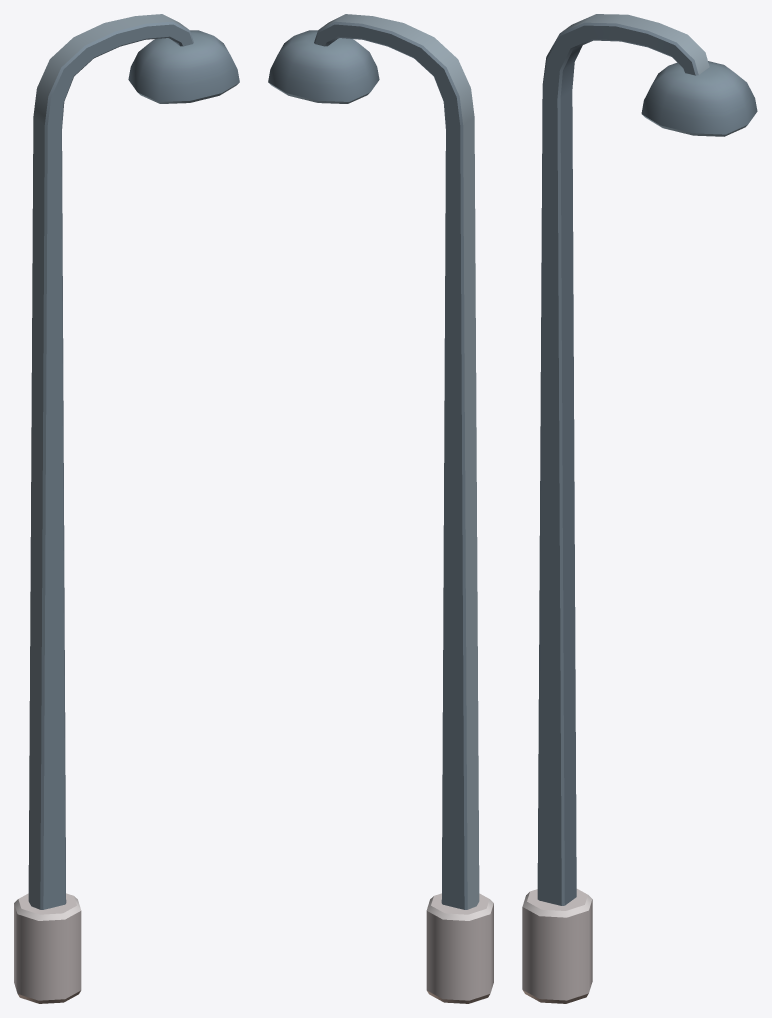
Rendered from streetlight.glb.
3 views of the same model, side by side, from view 1: azimuth 30°, elevation 25°; view 2: azimuth 150°, elevation 25°; view 3: azimuth 330°, elevation 25° (orthographic). The views are drawn at different scales.
Visible parts, largest first — view 1: streetlight; view 2: streetlight; view 3: streetlight.
Part boxes in pixels (x1=…): streetlight: x1=14, y1=14, x2=239, y2=1003; streetlight: x1=268, y1=14, x2=493, y2=1003; streetlight: x1=522, y1=14, x2=757, y2=1003.
Size of what is drawn, in the model's own units: 2.59 by 11.01 by 0.9201.
Materials: 1 (1 with a texture image).
